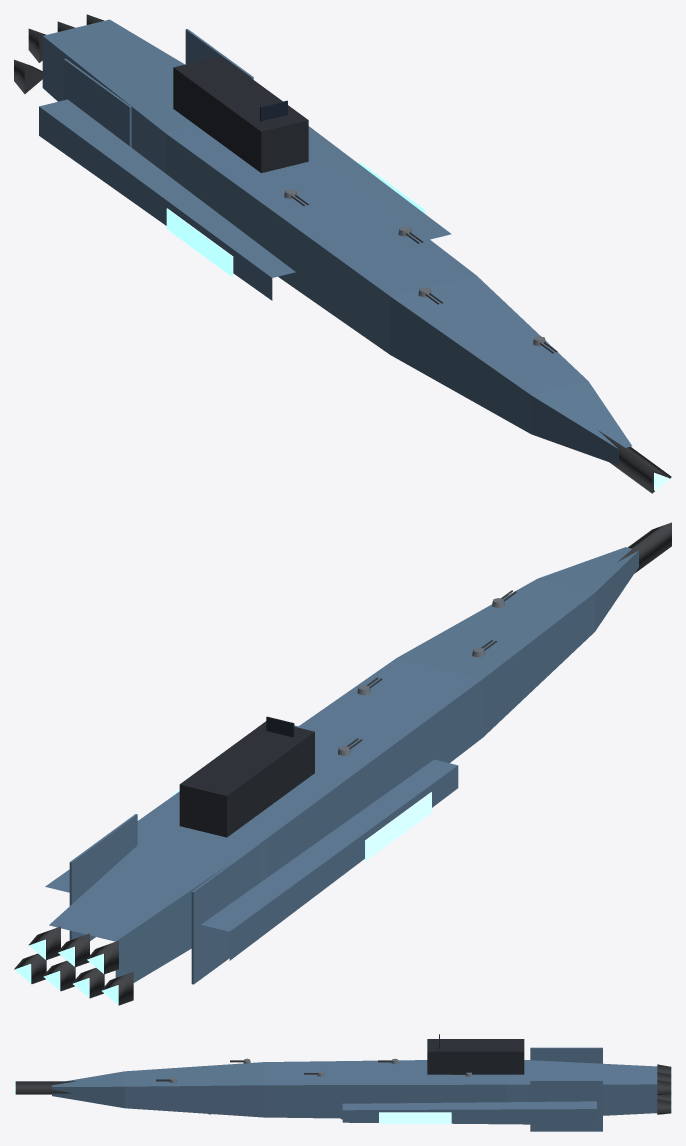
Rendered from space_ship_battleship_mk5_lod2.glb.
3 renders of one model, top to bottom at view 1: azimuth 30°, elevation 25°; view 2: azimuth 150°, elevation 25°; view 3: azimuth 270°, elevation 25°, orthographic. The views are drawn at different scales.
Visible parts, largest first — view 1: body, hangar_r, main_gun; view 2: body, hangar_r, main_gun, engine_0, engine_1, engine_3, engine_5; view 3: body, hangar_l, main_gun, engine_6, engine_5.
Boxes of the visible parts, left/top/right/bottom form: body: left=39, top=19, right=631, bottom=465; hangar_r: left=166, top=208, right=233, bottom=277; main_gun: left=598, top=430, right=671, bottom=493; body: left=45, top=547, right=638, bottom=984; hangar_r: left=365, top=792, right=431, bottom=861; main_gun: left=617, top=522, right=671, bottom=573; engine_0: left=101, top=972, right=133, bottom=1005; engine_1: left=87, top=940, right=118, bottom=974; engine_3: left=58, top=933, right=89, bottom=967; engine_5: left=29, top=926, right=60, bottom=959; body: left=52, top=1034, right=657, bottom=1131; hangar_l: left=379, top=1112, right=451, bottom=1123; main_gun: left=14, top=1081, right=75, bottom=1094; engine_6: left=657, top=1099, right=671, bottom=1114; engine_5: left=657, top=1080, right=671, bottom=1095.
Size of the model in its own units: 28.5 by 19.82 by 153.
